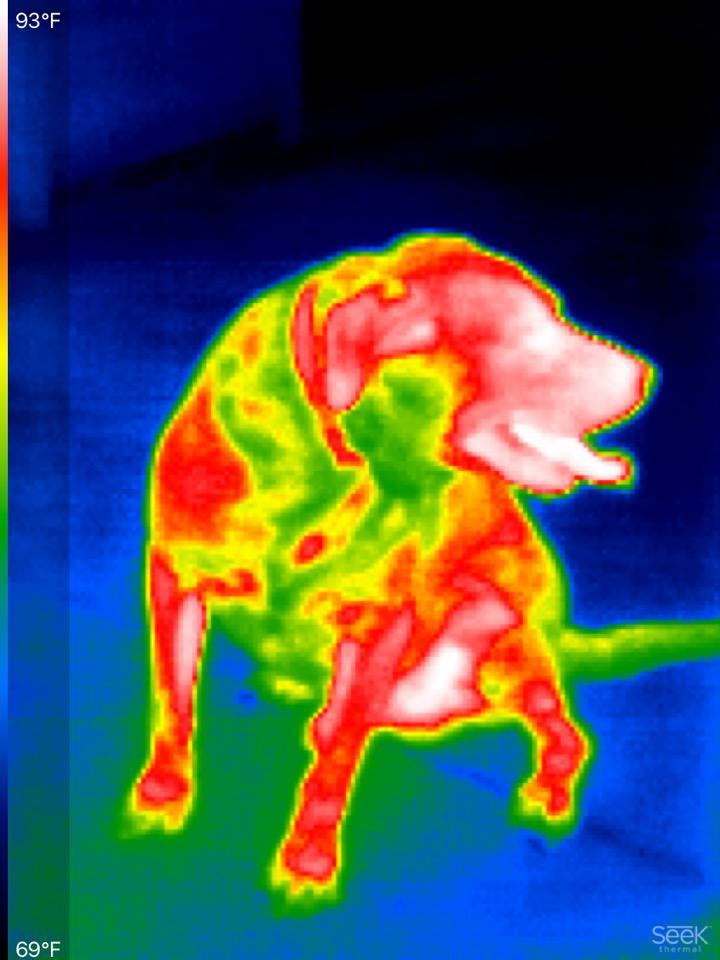dog: (118, 224, 662, 910)
